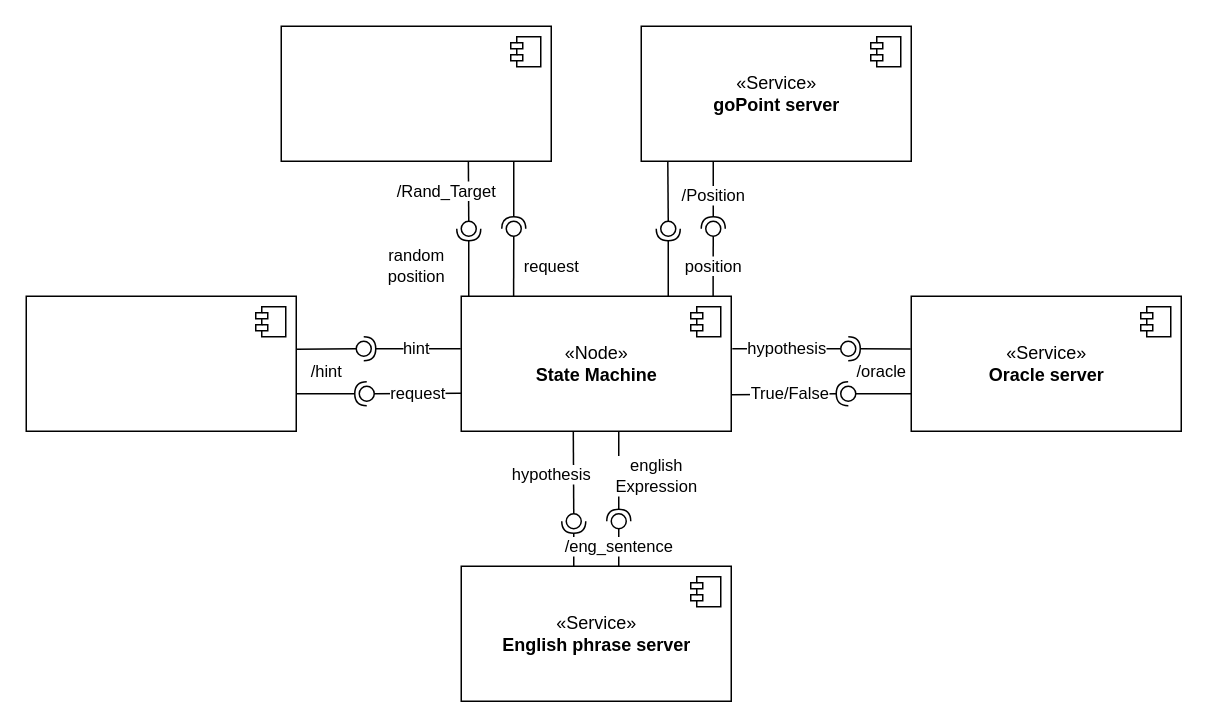
The diagram is 1208 pixels wide and 728 high, and some of its shapes have lost their labels. The shapes that lost their labels are listed below. From the top down, each one's centre as x and y in pixels, then its label:
pixel 415 93: «Service» randomTarget
pixel 160 363: «Service» Hint server
